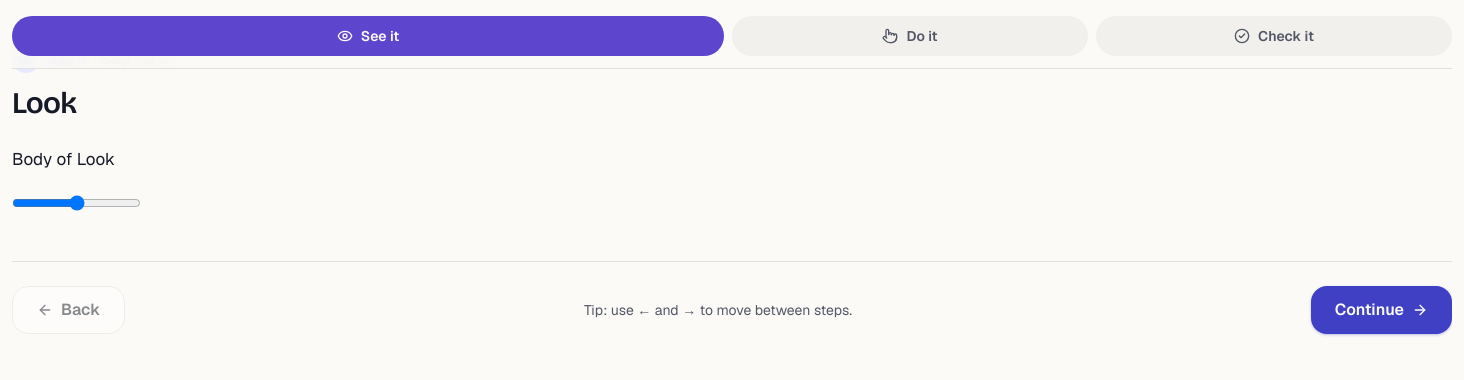
Scenario: LessonDeck › shows the completion panel after the last step
Click the button with aria-label "Step 3 of 3" at x=1274, y=36, box [1096,16,1452,56]
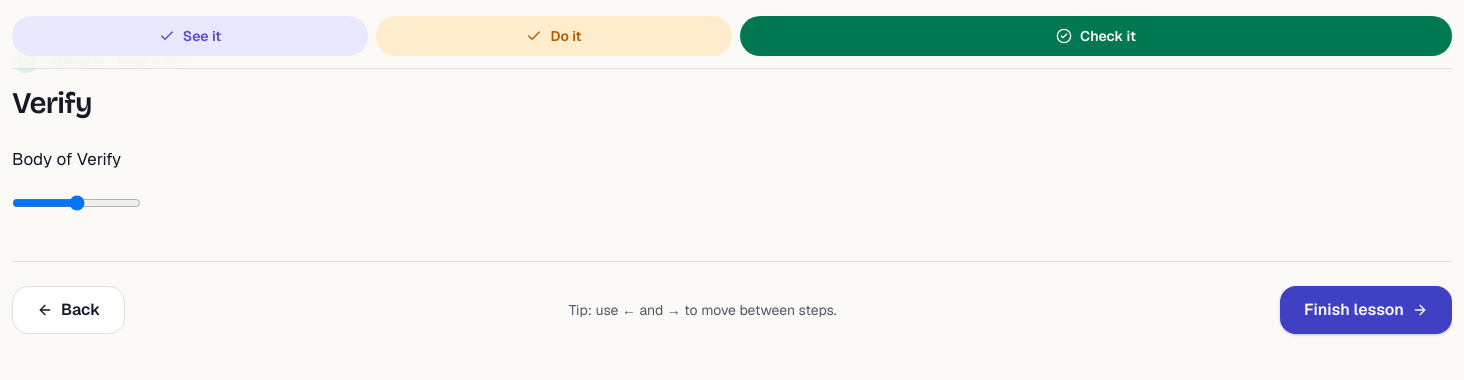
Click the button "Finish lesson" at x=1366, y=310, box [1280,286,1452,334]
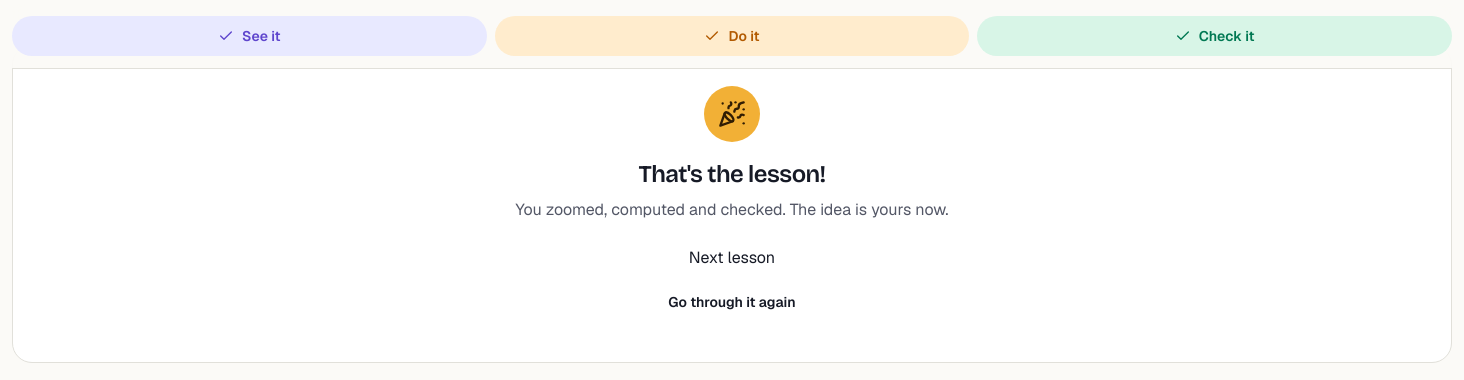
Result: the heading reads "That's the lesson!" at [638,160,825,188]
Result: the link "Next lesson" is shown at [689,246,775,270]
Click the button "Go through it again" at x=732, y=302, box [652,282,812,322]
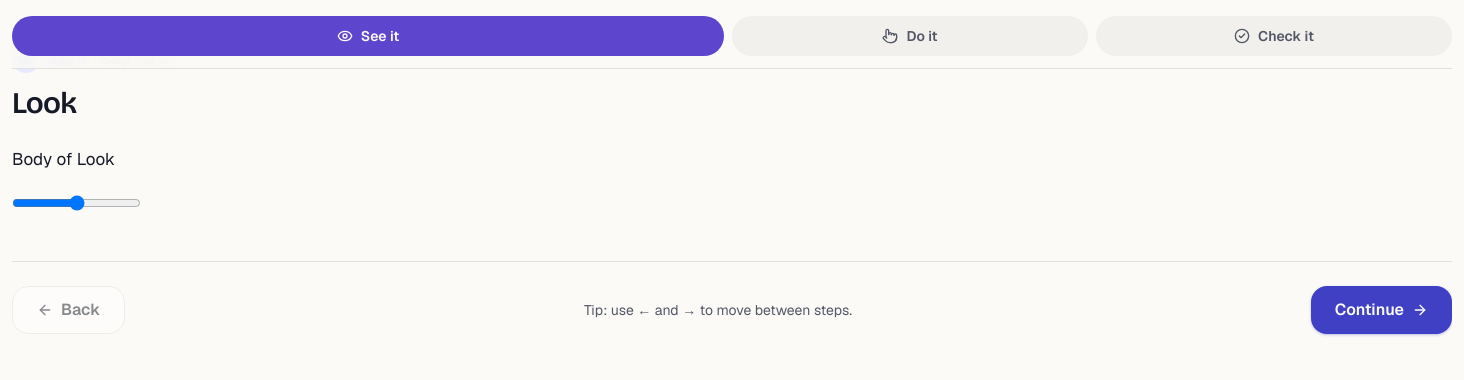
Result: the heading reads "Look" at [12,85,76,121]
